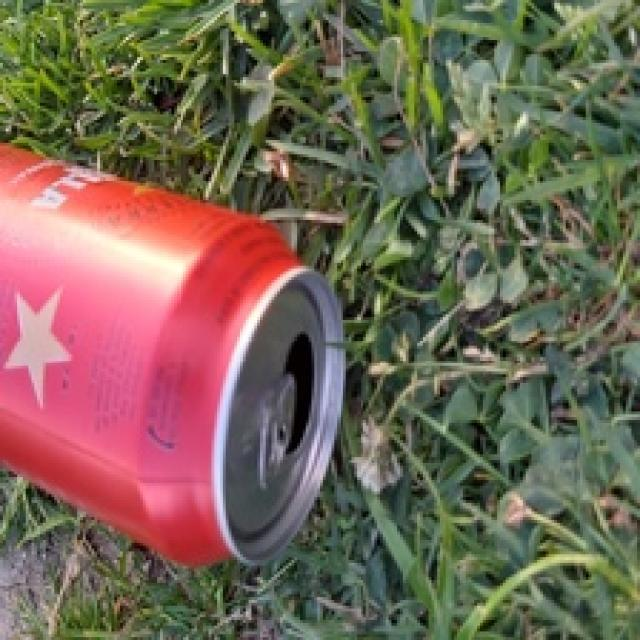recyclable: (0, 140, 343, 569)
